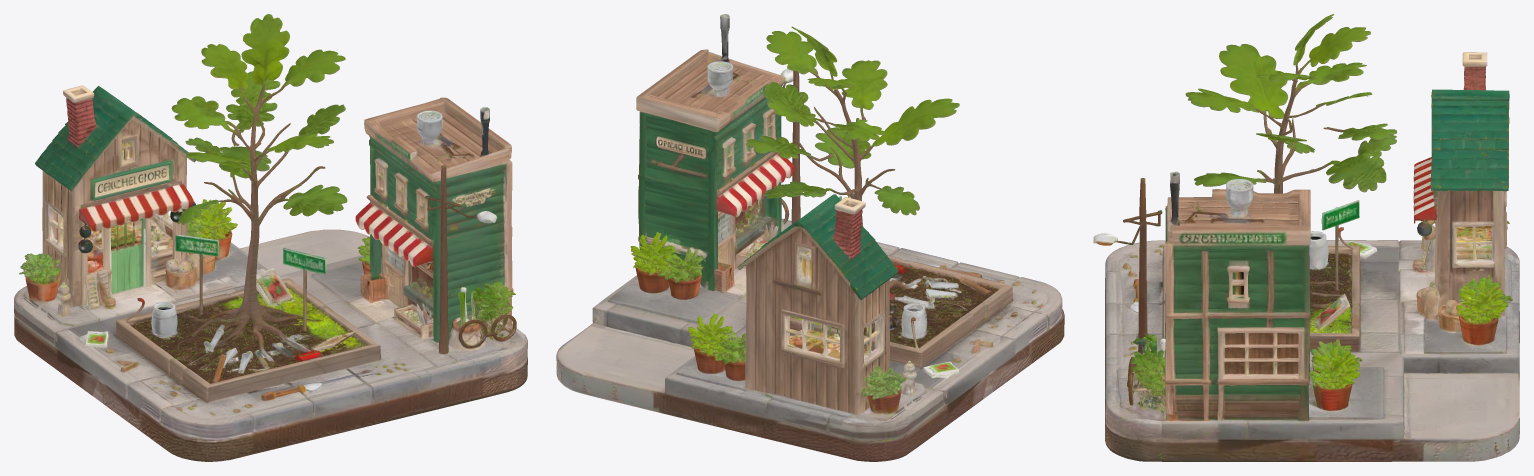
Rendered from diorama.glb.
3 renders of one model, left to right at view 1: azimuth 30°, elevation 25°; view 2: azimuth 150°, elevation 25°; view 3: azimuth 270°, elevation 25°, orthographic. The views are drawn at different scales.
Bounding box in the file's own units: 1.9 × 1.72 × 1.87.
1 material, 1 textured.
